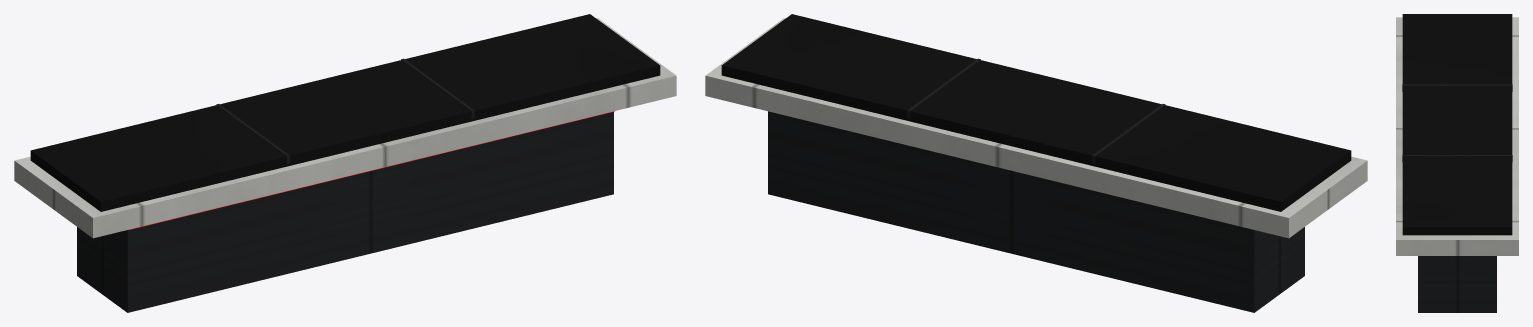
Rendered from SM_LFD_WaitingBench.fbx.
The picture shows the model from 3 angles, left to right: view 1: azimuth 30°, elevation 25°; view 2: azimuth 150°, elevation 25°; view 3: azimuth 270°, elevation 25°; orthographic projection. The views are drawn at different scales.
Parts seen in each view (by area): view 1: SM_LFD_WaitingBench_LOD0; view 2: SM_LFD_WaitingBench_LOD0; view 3: SM_LFD_WaitingBench_LOD0.
Boxes of the visible parts, x1,y1,x2,y2 form: SM_LFD_WaitingBench_LOD0: [14, 14, 676, 312]; SM_LFD_WaitingBench_LOD0: [705, 14, 1367, 312]; SM_LFD_WaitingBench_LOD0: [1396, 14, 1518, 312].
Size of what is drawn, in the model's own units: 2.4 by 0.502 by 0.56.
